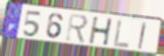5: (22, 10, 43, 38)
6: (46, 13, 64, 40)
H: (88, 16, 114, 47)
I: (137, 21, 148, 50)
L: (112, 19, 131, 49)
R: (65, 13, 89, 45)
